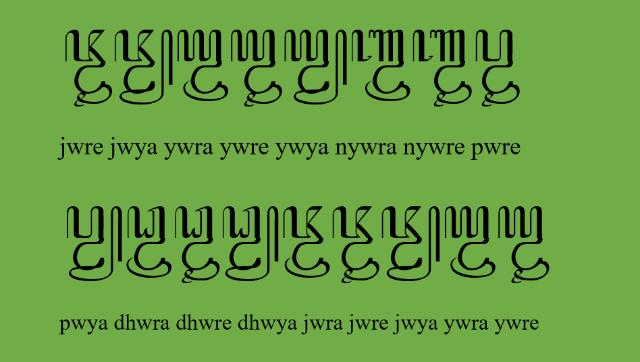dhwr: (126, 206, 172, 280)
dhwre: (174, 206, 220, 284)
dhwy: (222, 206, 280, 283)
jwr: (282, 205, 330, 278)
jwre: (65, 29, 113, 107), (332, 206, 380, 284)
jwy: (114, 28, 174, 106), (382, 206, 440, 282)
nywr: (351, 29, 411, 102)
nywre: (412, 28, 472, 108)
pwre: (476, 29, 520, 107)
pwy: (66, 206, 122, 283)
ywr: (444, 205, 496, 278), (176, 30, 228, 102)
ywre: (230, 28, 282, 108), (498, 206, 550, 284)
ywy: (284, 30, 348, 106)
